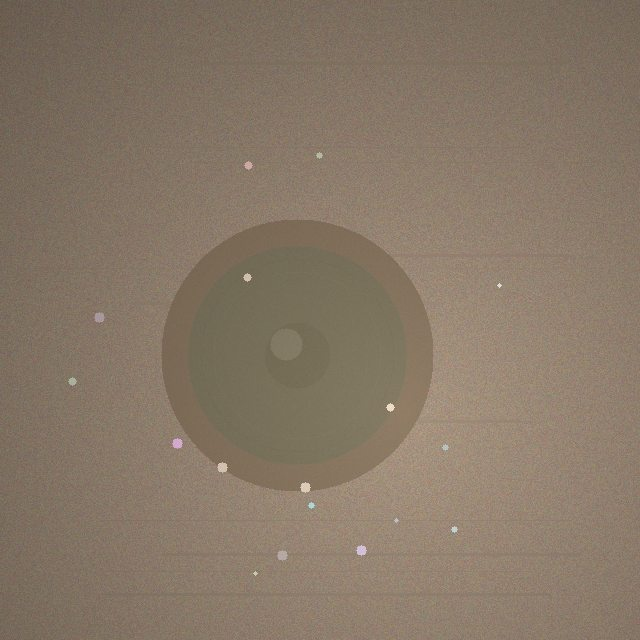overburn: (161, 219, 433, 491)
